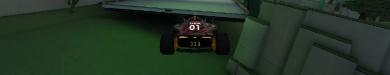Car: (159, 15, 230, 55)
Tree: (66, 0, 79, 11)
obstacles-Borders: (224, 0, 389, 74)
